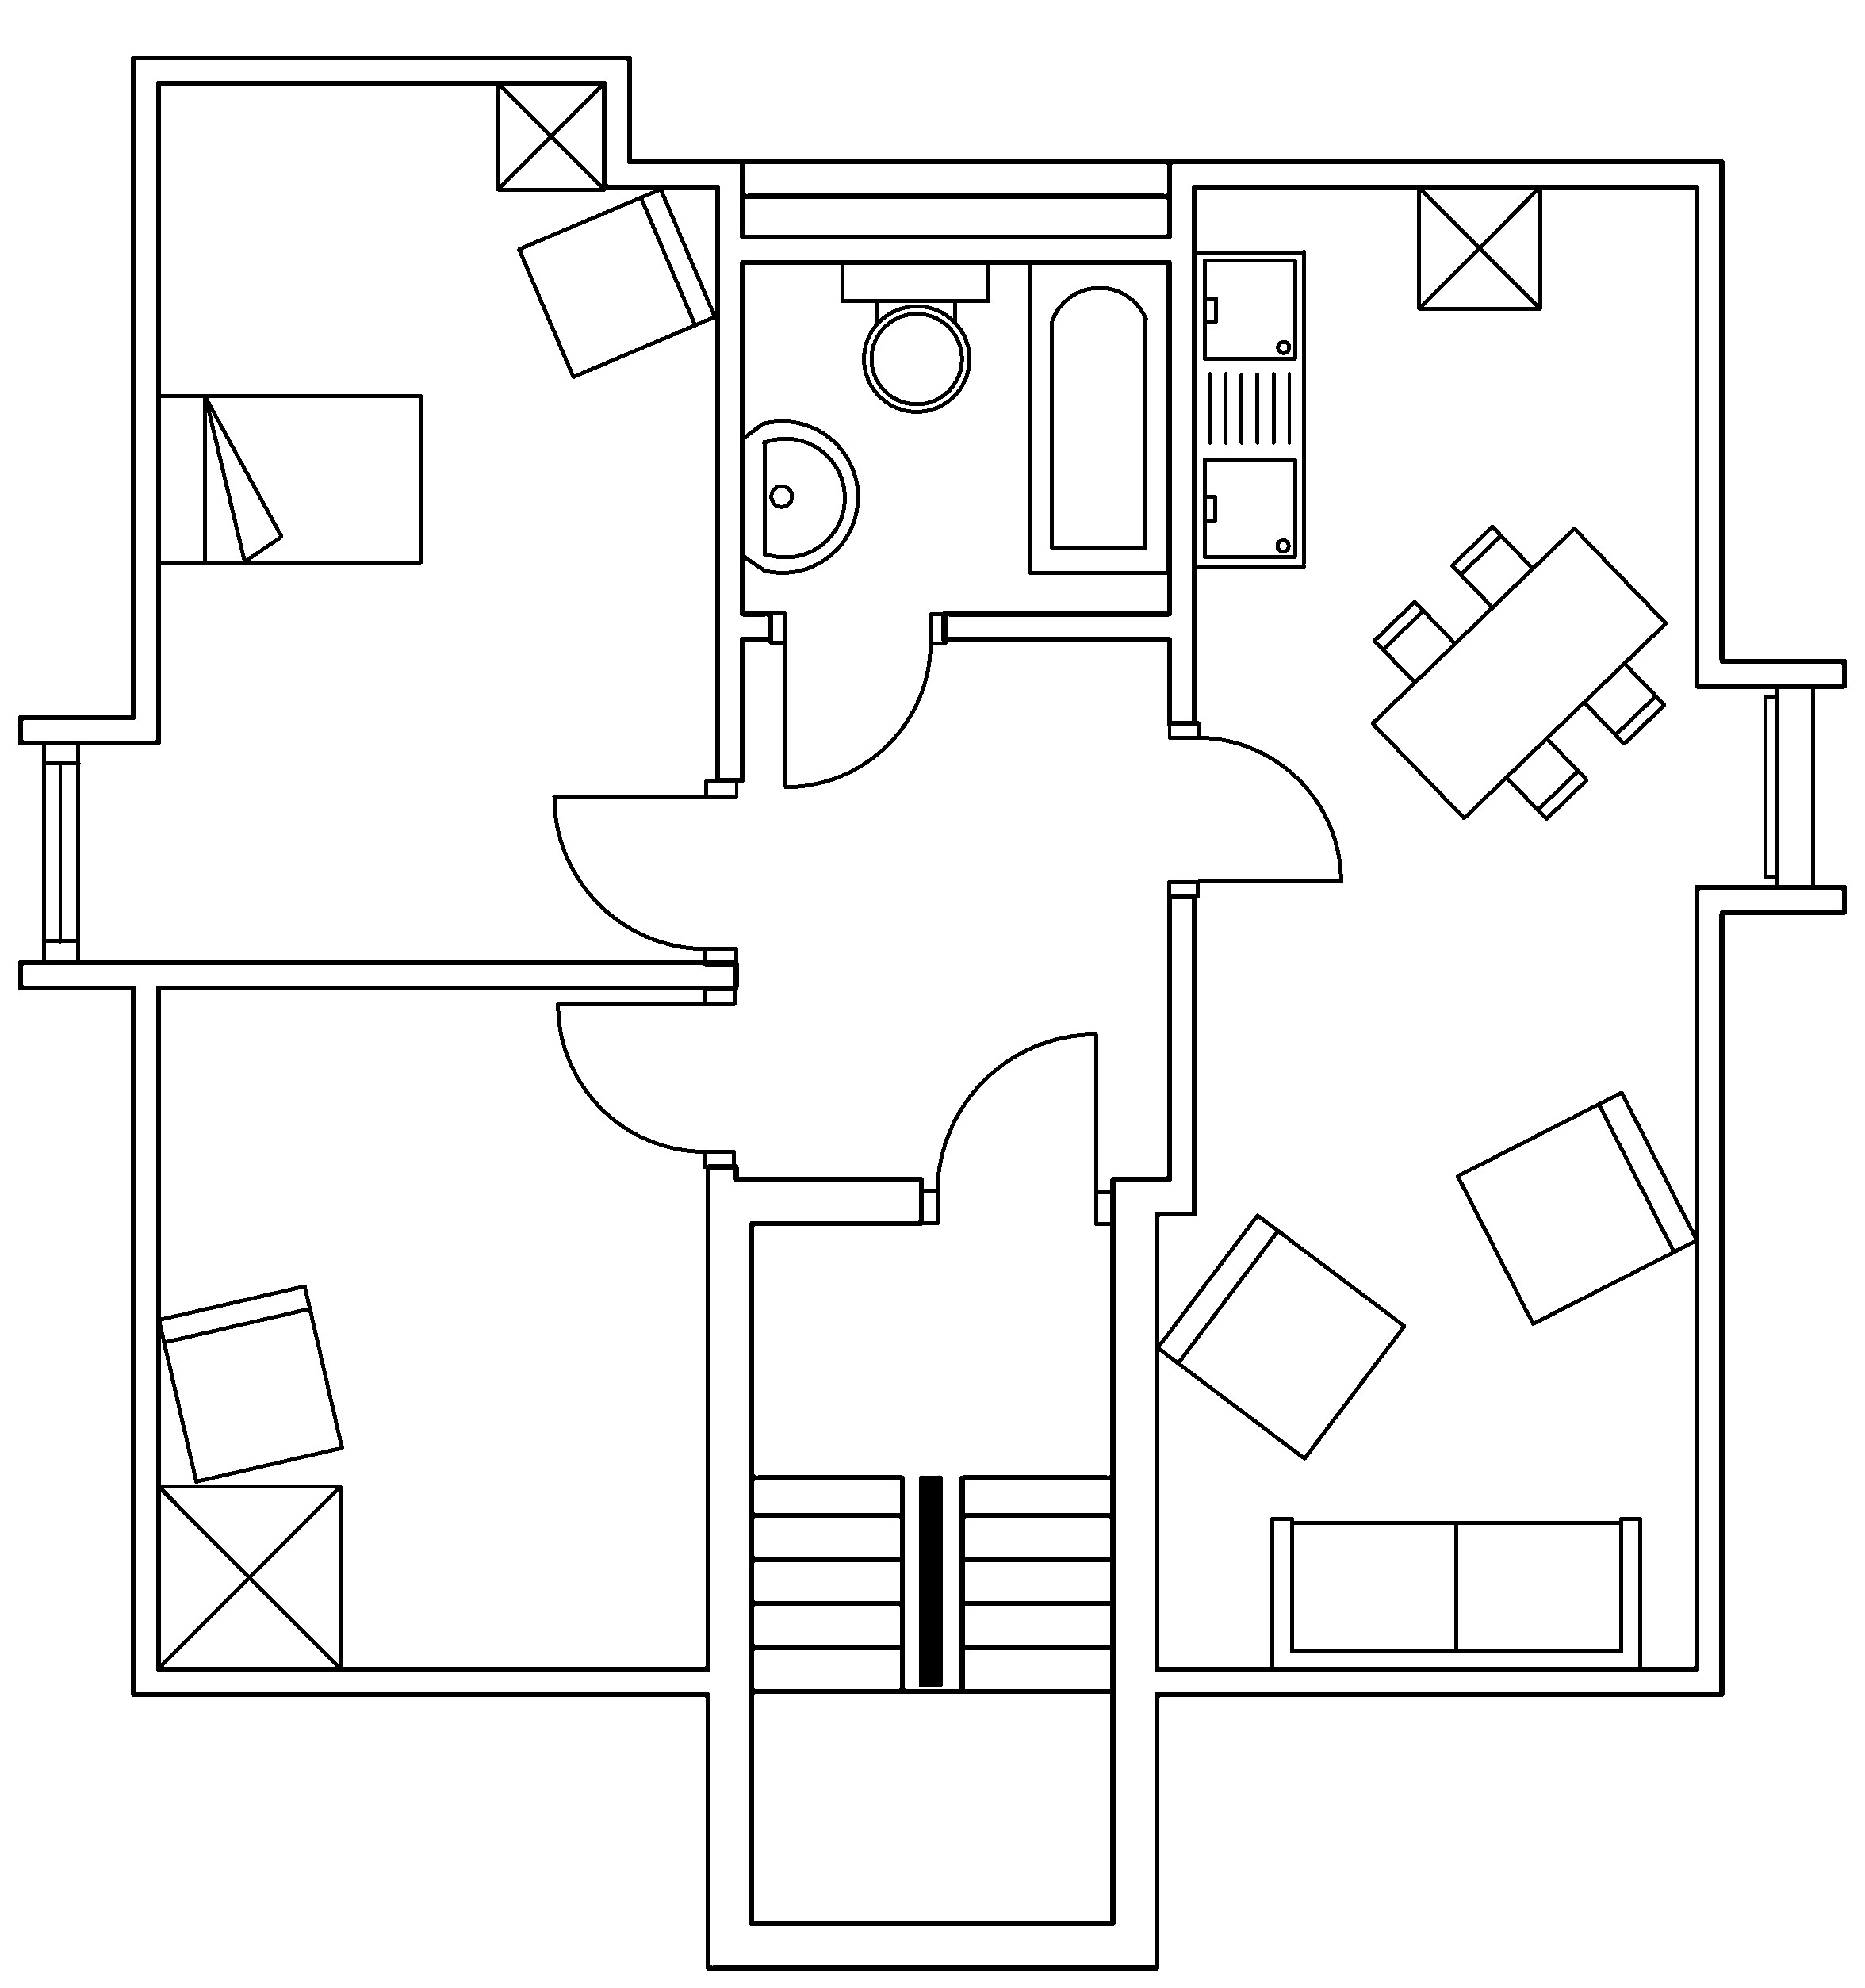bed: (154, 391, 424, 566)
coffee_table: (154, 1481, 342, 1671), (1416, 182, 1542, 310), (494, 79, 606, 191)
dining_table: (1369, 522, 1669, 822)
large_sink: (840, 258, 990, 412)
large_sofa: (1269, 1515, 1642, 1672)
small_sink: (740, 419, 859, 573)
small_sofa: (1153, 1211, 1408, 1460), (1455, 1089, 1698, 1325), (515, 186, 717, 379), (156, 1282, 344, 1483)
tub: (1027, 258, 1171, 575)
twin_sink: (1192, 247, 1308, 570)
